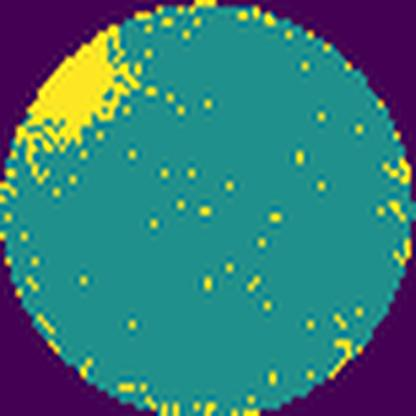Edge-Loc: (14, 22, 154, 168)
